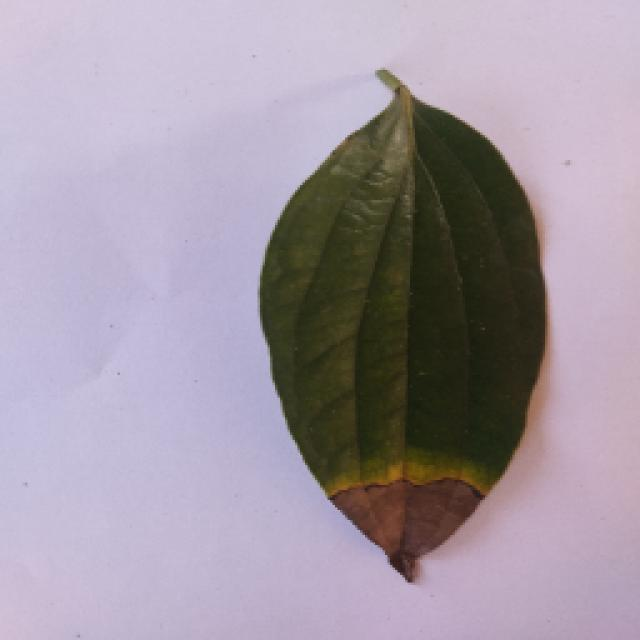footrot: (253, 70, 545, 582)
